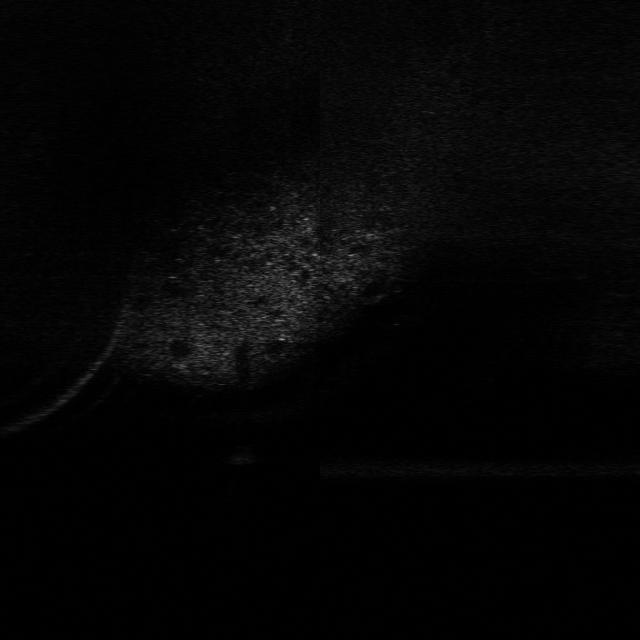cube: (224, 436, 258, 468)
